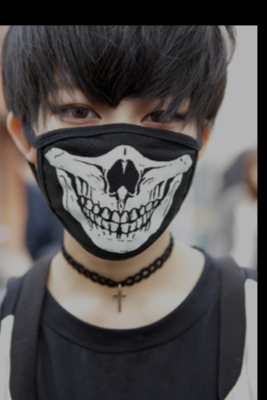with_mask: (34, 72, 201, 263)
